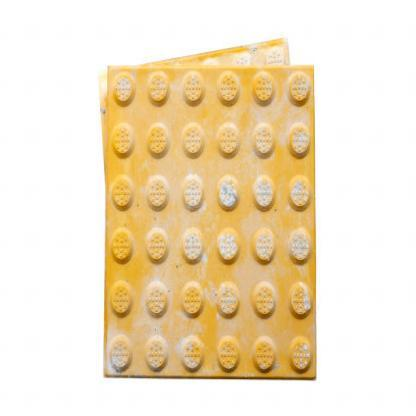podotacti: (108, 68, 315, 380)
